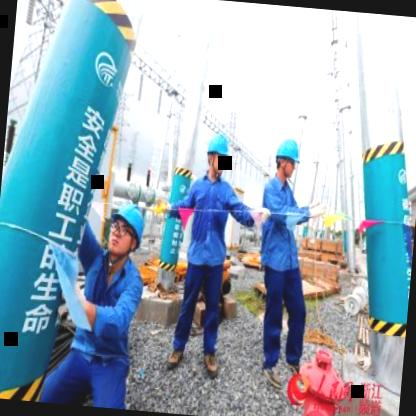helmet: (103, 196, 150, 262), (272, 132, 304, 185), (204, 127, 233, 180)
